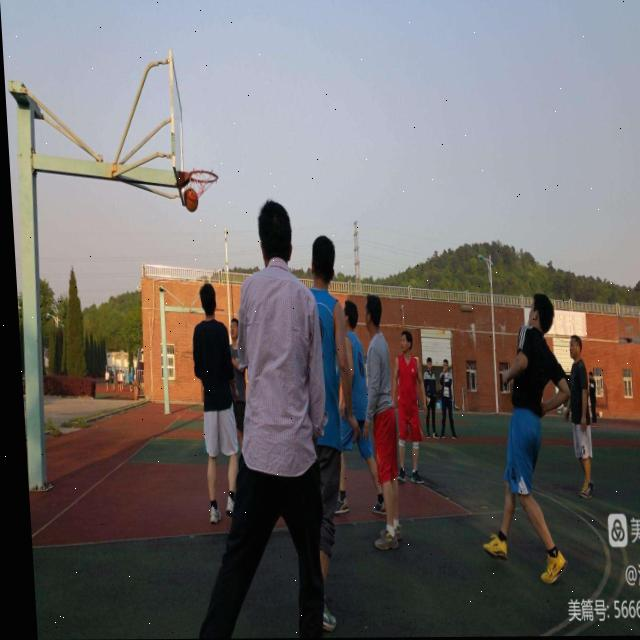basketball: (184, 187, 199, 213)
hoop: (182, 170, 221, 213), (183, 170, 220, 198)
